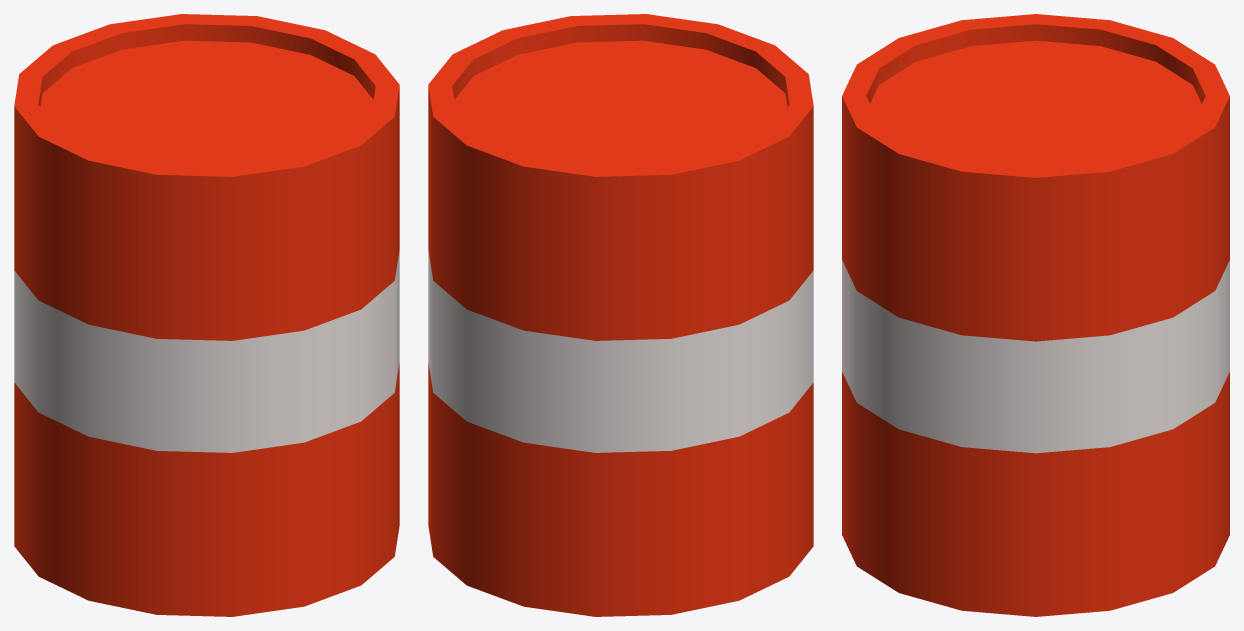
The model's file is Barrel_fbx.fbx.
3 renders of one model, left to right at view 1: azimuth 30°, elevation 25°; view 2: azimuth 150°, elevation 25°; view 3: azimuth 270°, elevation 25°, orthographic.
Parts seen in each view (by area): view 1: Cylinder; view 2: Cylinder; view 3: Cylinder.
Part boxes in pixels (x1,y1,x2,y2): Cylinder: (14, 14, 399, 616); Cylinder: (428, 14, 813, 616); Cylinder: (842, 14, 1229, 616).
Bounding box in the file's own units: 1.54 × 1.92 × 1.54.
